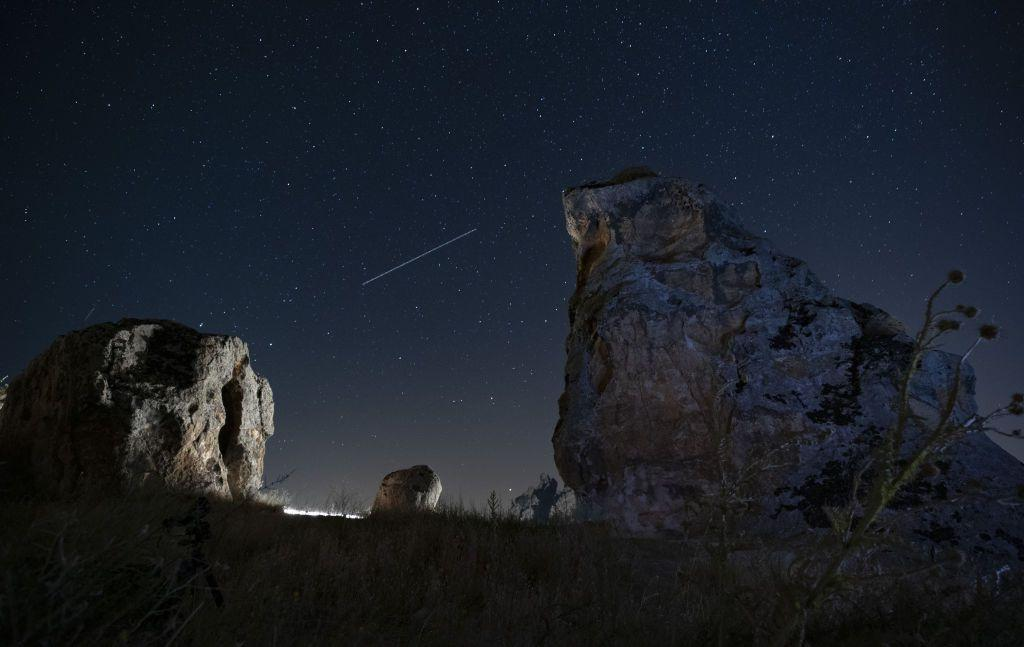meteorite: (346, 219, 485, 294)
